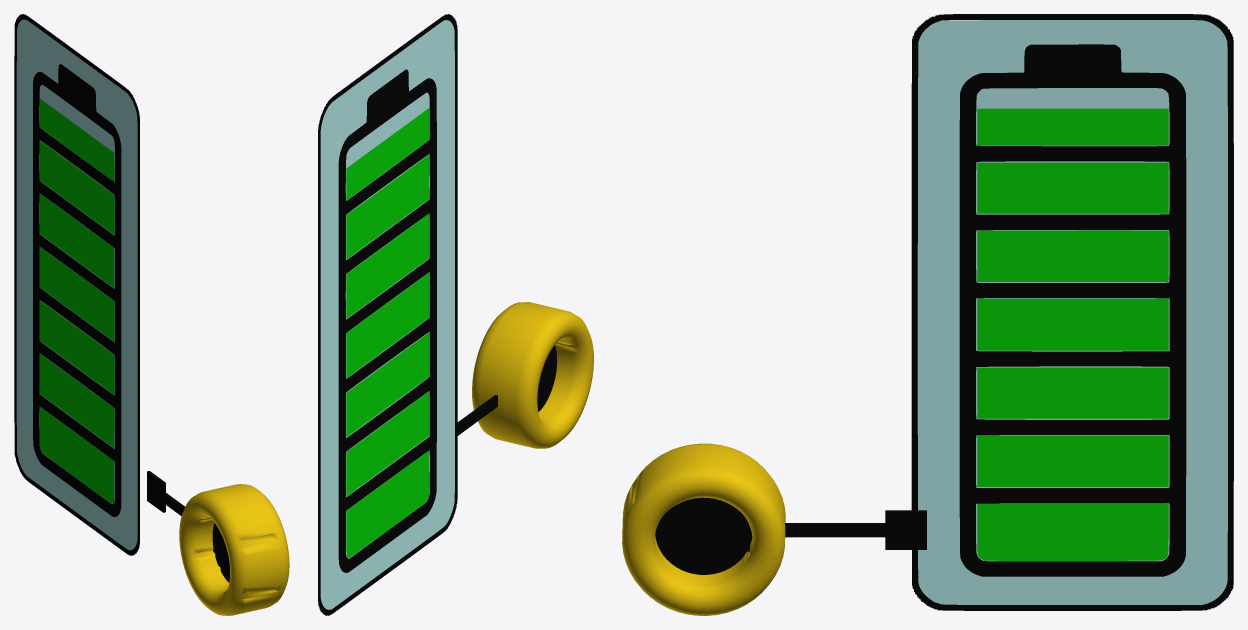
File: FullBattery.fbx
The picture shows the model from 3 angles, left to right: view 1: azimuth 30°, elevation 25°; view 2: azimuth 150°, elevation 25°; view 3: azimuth 270°, elevation 25°; orthographic projection. The views are drawn at different scales.
Parts seen in each view (by area): view 1: 3.BODY.028; view 2: 3.BODY.028; view 3: 3.BODY.028.
Boxes of the visible parts, box(x1,y1,x2,y2) form: 3.BODY.028: box(14, 14, 289, 615); 3.BODY.028: box(318, 14, 593, 615); 3.BODY.028: box(622, 14, 1233, 615).
Size of the model in its own units: 5.93 by 47.33 by 43.96.
